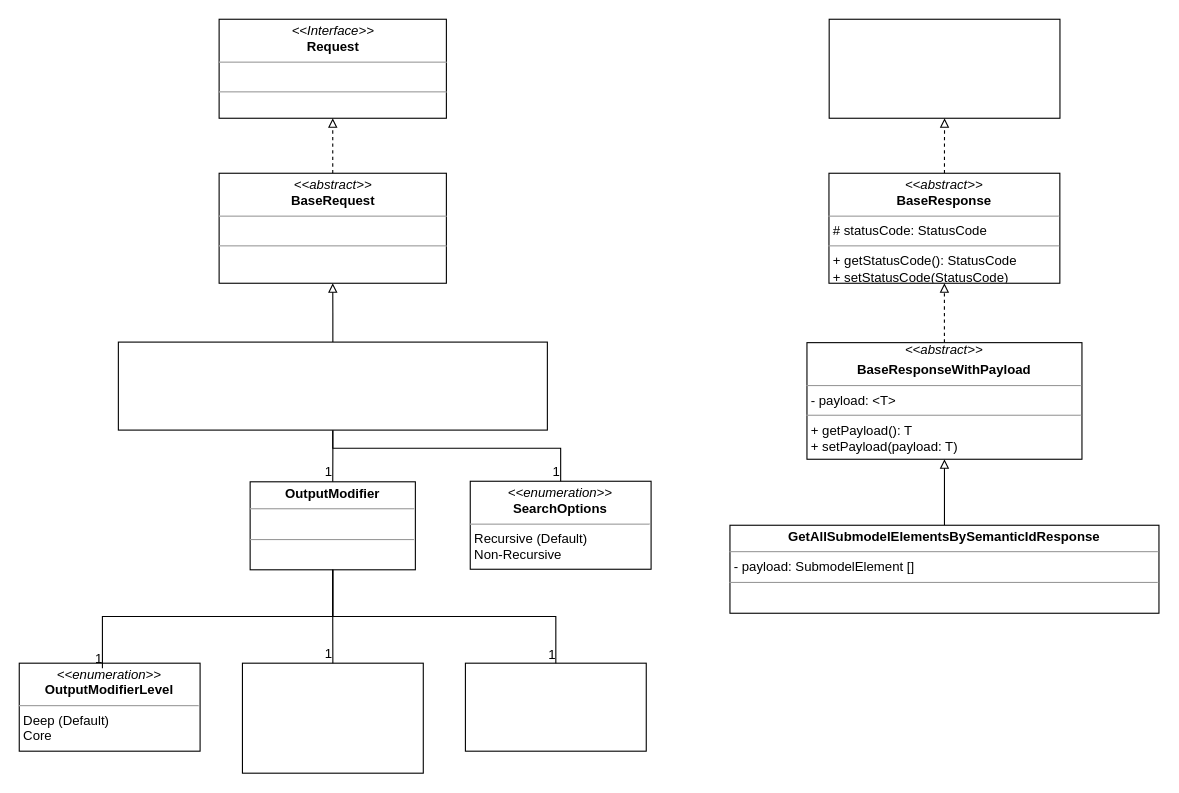
This 1179x793 diagram has some shape labels left out. Each missing label, with the centre of its shape:
"<<enumeration>> OutputModifier Content Normal (Default) Value Reference Path" goes at (332,717).
"<<enumeration>> OutputModifier Extent WithoutBLOBValue (Default) WithBLOBValue" goes at (555,706).
"<<Interface>> Response" goes at (944,68).
"GetAllSubmodelElementsBySemanticIdRequest - semanticId: Reference" goes at (332,385).
